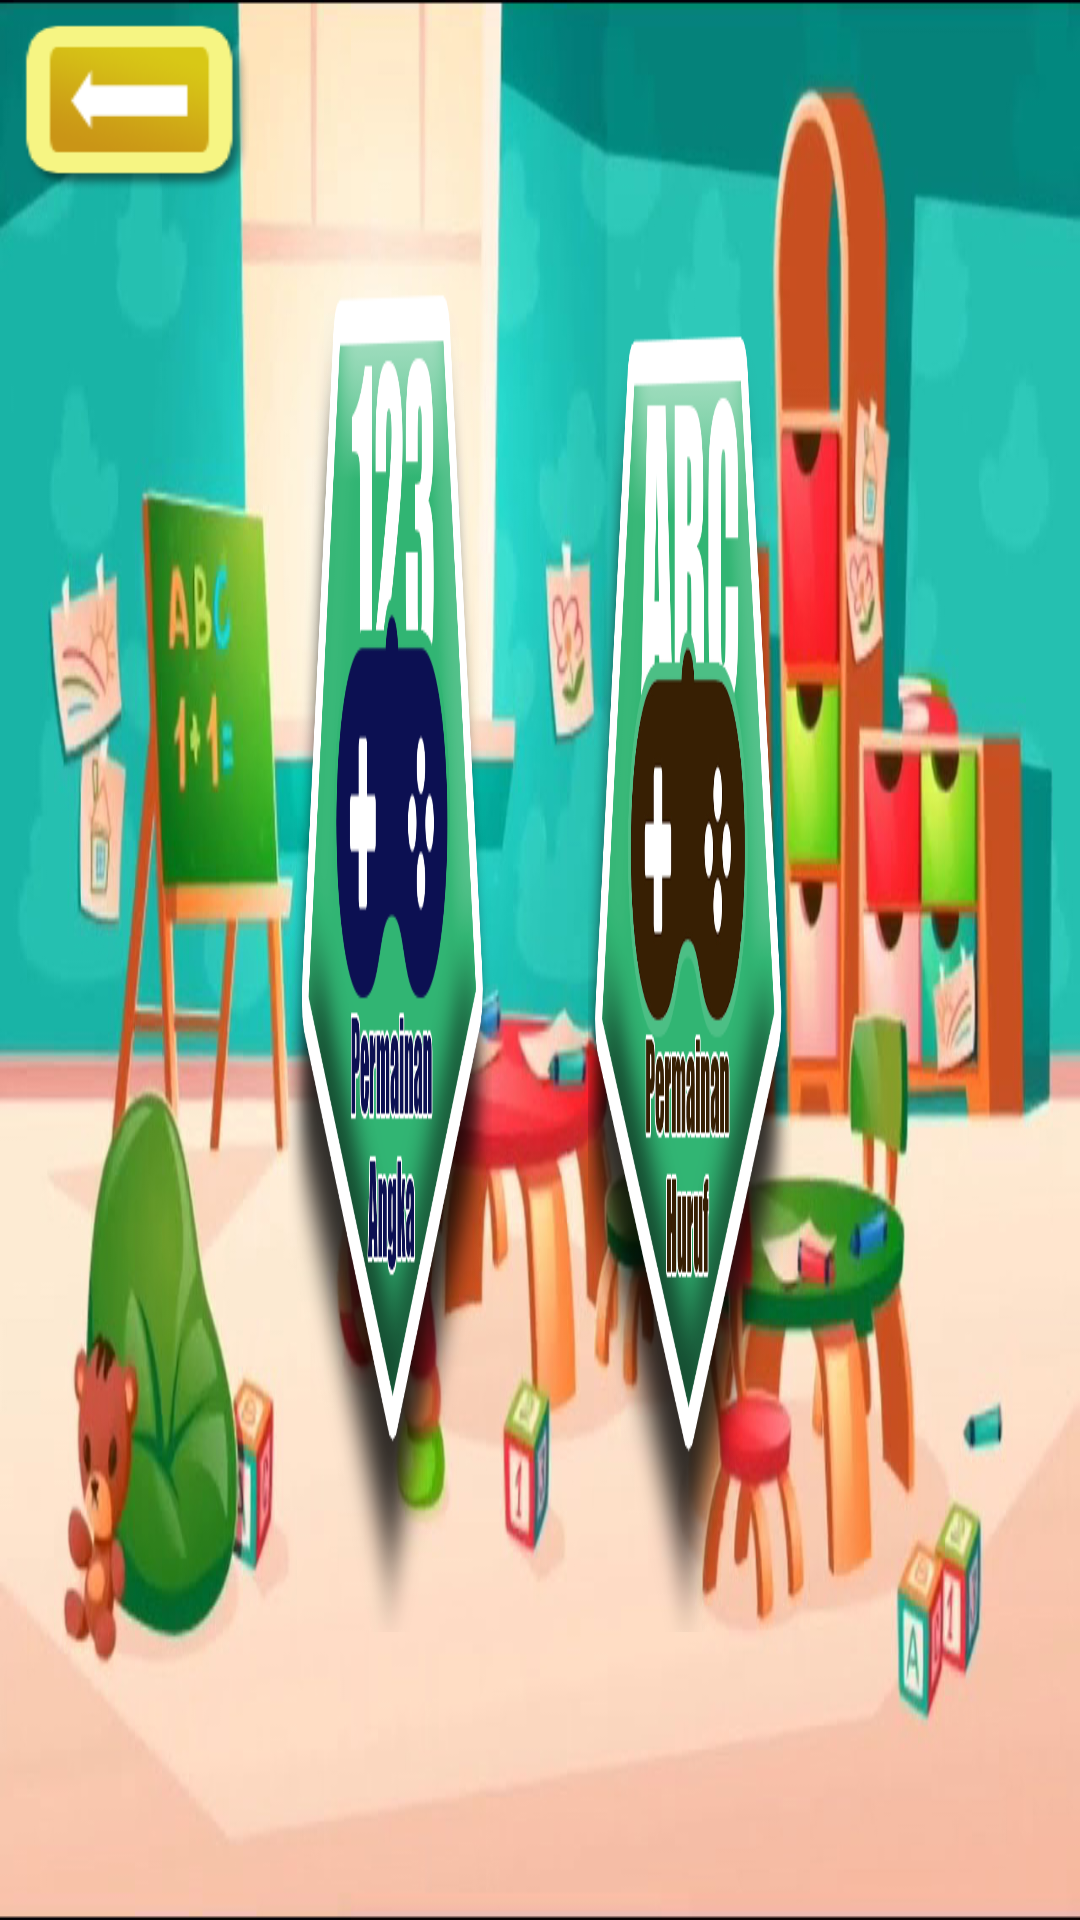

Named icons in this screenshot (1080*1920) and their centers, [x,y]:
kembali: [136,108]
